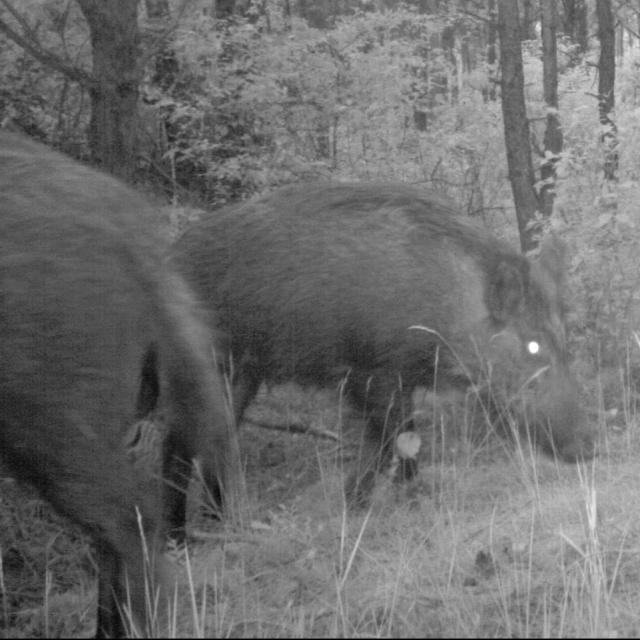pig: (208, 190, 620, 488)
